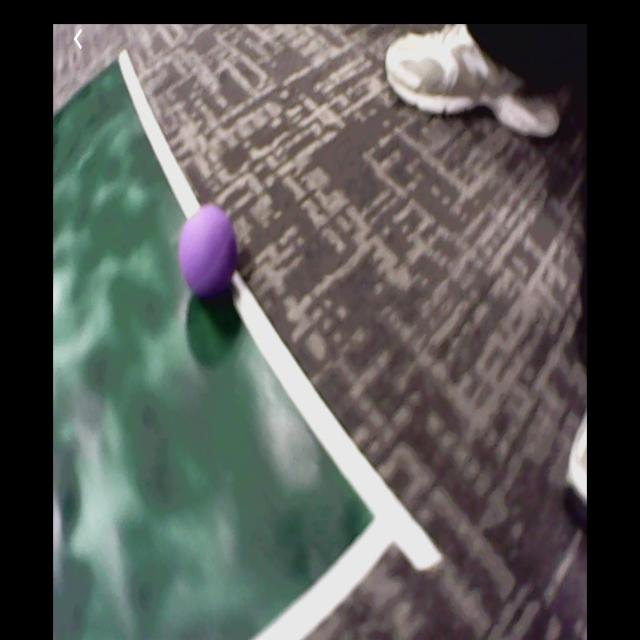ball: (181, 205, 237, 296)
